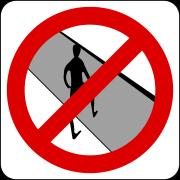Pedestrian Prohibited: (9, 7, 169, 180)
